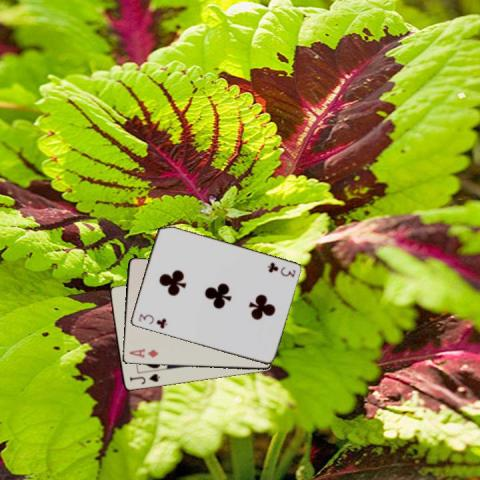3c: (264, 259, 297, 279), (135, 311, 168, 330)
Ad: (126, 346, 159, 359)
Js: (127, 371, 161, 386)
